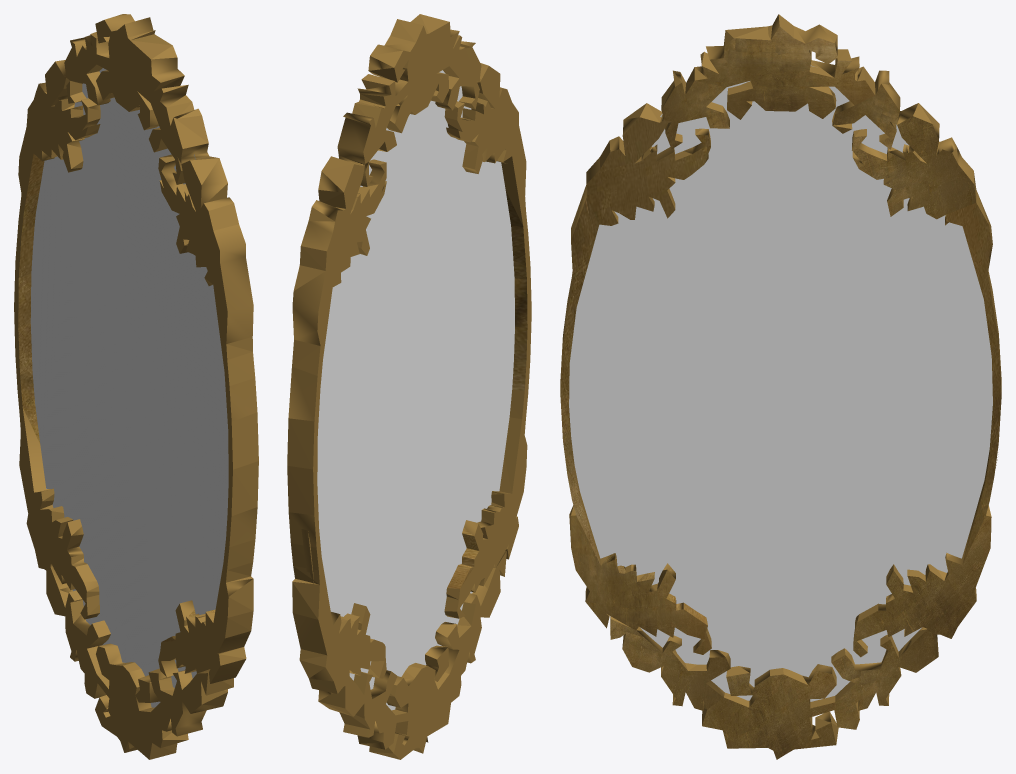
The model's file is mirror-texture.glb.
3 renders of one model, left to right at view 1: azimuth 30°, elevation 25°; view 2: azimuth 150°, elevation 25°; view 3: azimuth 270°, elevation 25°, orthographic.
Visible parts, largest first — view 1: Mirror, Cylinder; view 2: Mirror, Cylinder; view 3: Mirror, Cylinder.
Part boxes in pixels (x1=…): Mirror: x1=30, y1=68, x2=228, y2=707; Cylinder: x1=14, y1=14, x2=258, y2=759; Mirror: x1=317, y1=70, x2=514, y2=710; Cylinder: x1=287, y1=14, x2=531, y2=759; Mirror: x1=569, y1=65, x2=992, y2=701; Cylinder: x1=560, y1=14, x2=1001, y2=759.
Bounding box in the file's own units: 0.0606 × 1.63 × 0.8874.
Materials: 2 (1 with a texture image).
